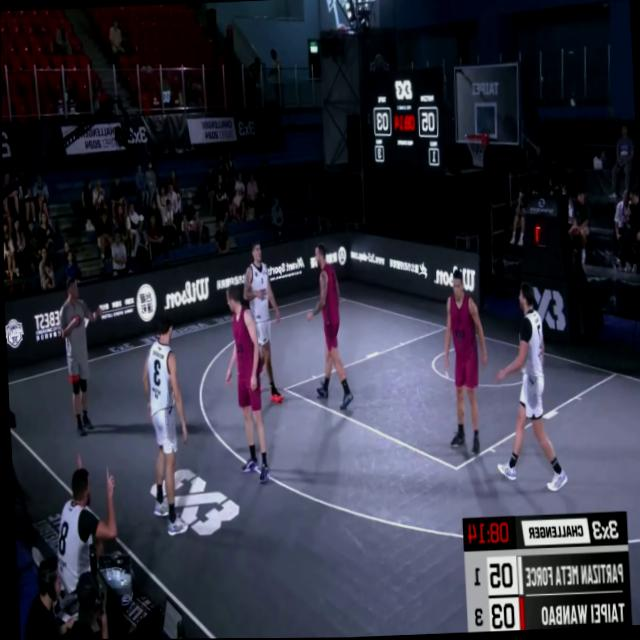hoop: (465, 127, 491, 170)
player: (488, 277, 567, 492), (139, 315, 188, 531), (437, 268, 489, 456), (218, 284, 265, 489), (307, 242, 353, 414), (240, 241, 281, 405)
